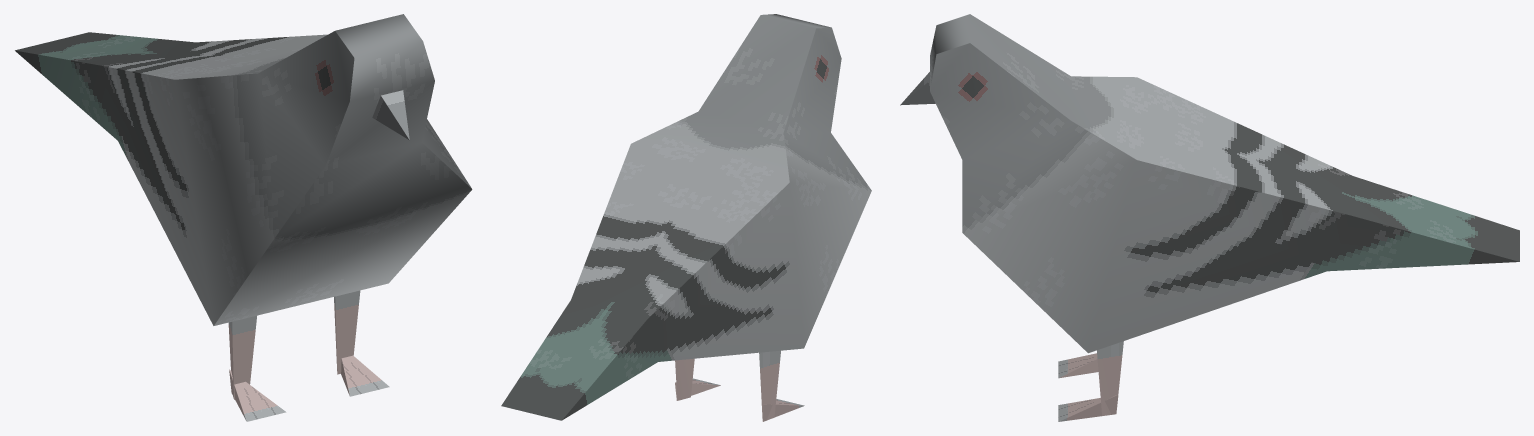
File: 008d_Pigeon.glb
3 views of the same model, side by side, from view 1: azimuth 30°, elevation 25°; view 2: azimuth 150°, elevation 25°; view 3: azimuth 270°, elevation 25° (orthographic). The views are drawn at different scales.
Parts seen in each view (by area): view 1: part_0; view 2: part_0; view 3: part_0.
Part boxes in pixels (left/top/right/bottom): part_0: left=15, top=14, right=472, bottom=421; part_0: left=501, top=14, right=871, bottom=421; part_0: left=900, top=14, right=1519, bottom=421.
Bounding box in the file's own units: 0.0811 × 0.1648 × 0.2549.
1 material, 1 textured.
